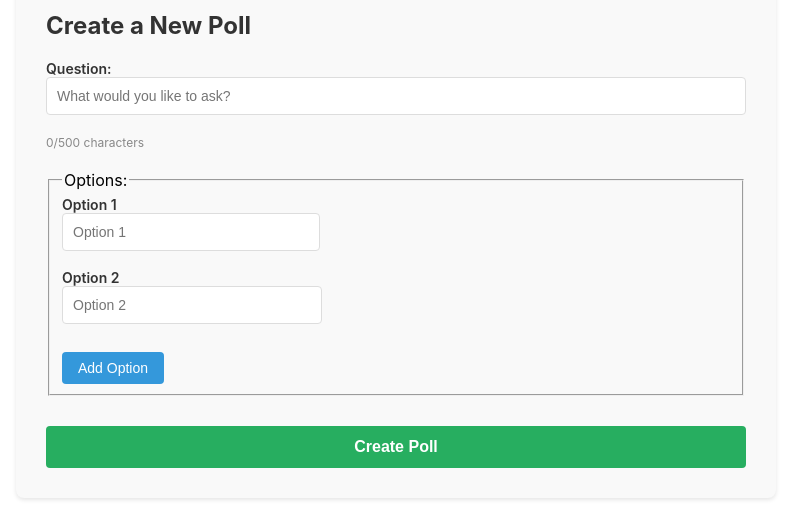
Scenario: HostDashboard - Option Input Focus (US1) › T006 [US1]: preserves cursor position when editing existing text
# Click into the input and type initial text
Click the field with placeholder "Option 1". click: {"x": 191, "y": 232}
box: [62,212,320,250]
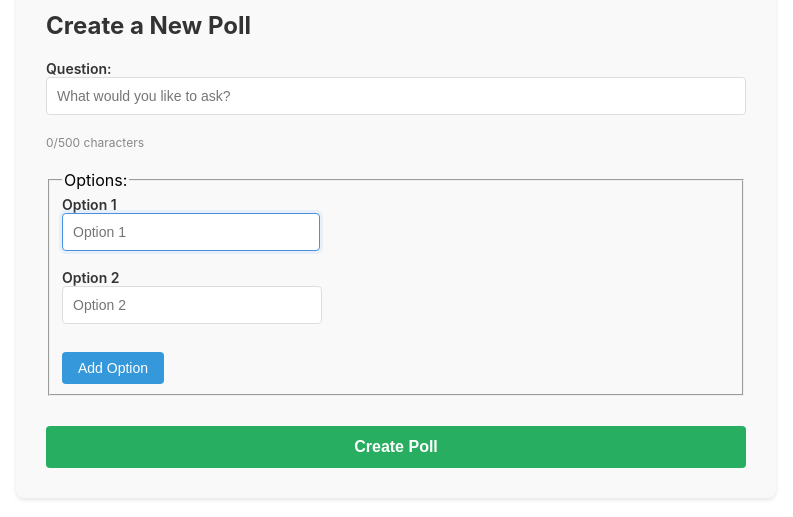
Type keys "Hello World"
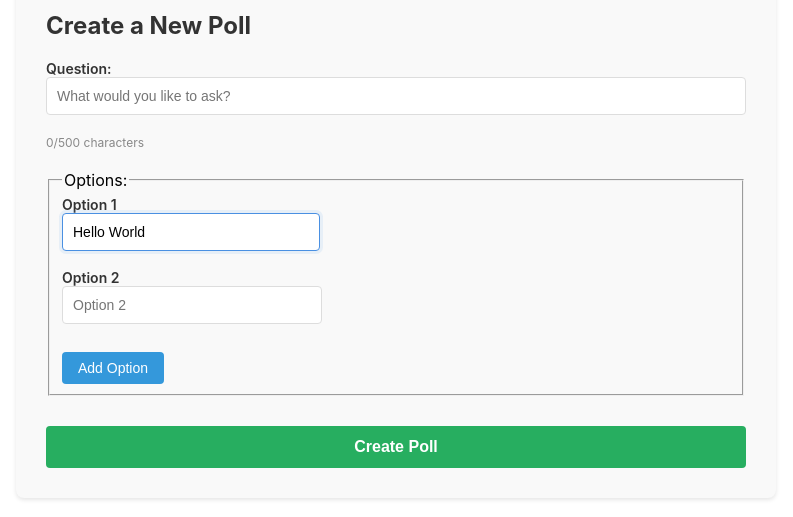
# Type a character in the middle
Type keys "Beautiful "
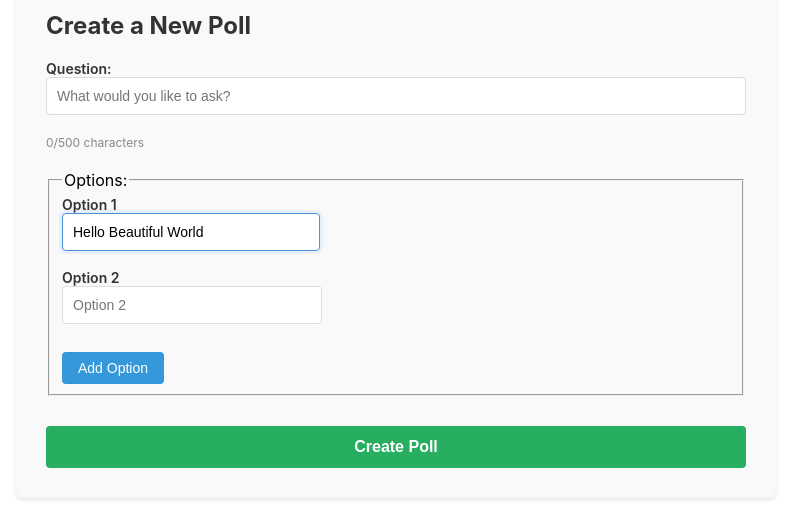
Expected: the field with placeholder "Option 1" holds "Hello Beautiful World", [62,212,320,250]
